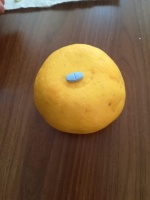Majezik: (65, 71, 85, 83)
